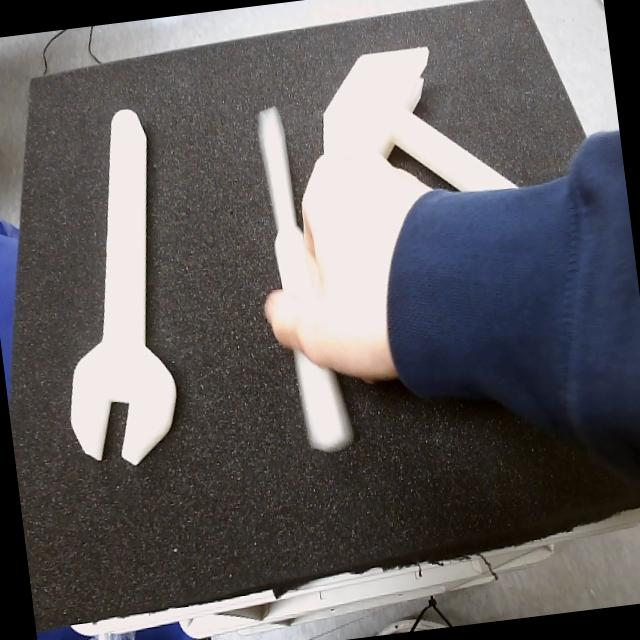Spanner: (69, 109, 177, 468)
